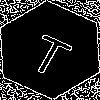T: (25, 25, 79, 80)
